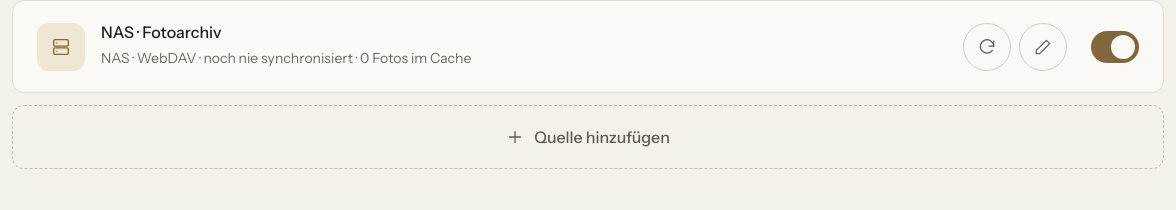
Test: SourcesPane › meldet einen Lauf ohne abgelegtes Bild als Fehler mit Grund (E-69)
Click the button with class "action-sync": {"x": 987, "y": 47} [963, 23, 1011, 71]
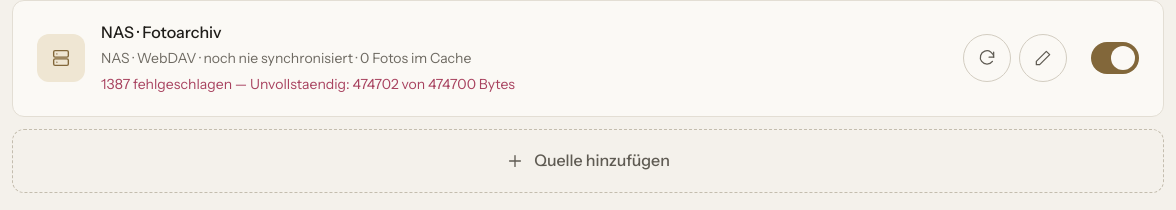
Result: the message with class "error" reads "1387 fehlgeschlagen — Unvollstaendig: 474702 von 474700 Bytes" at [101, 76, 515, 94]
